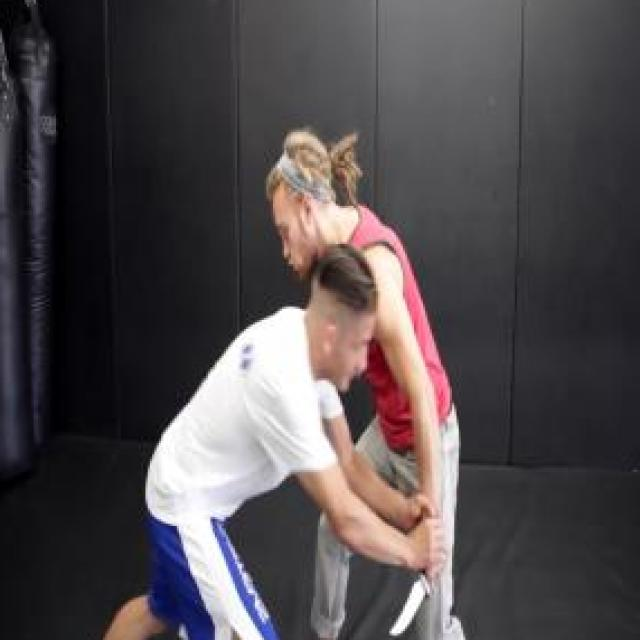knife: (385, 564, 447, 640)
